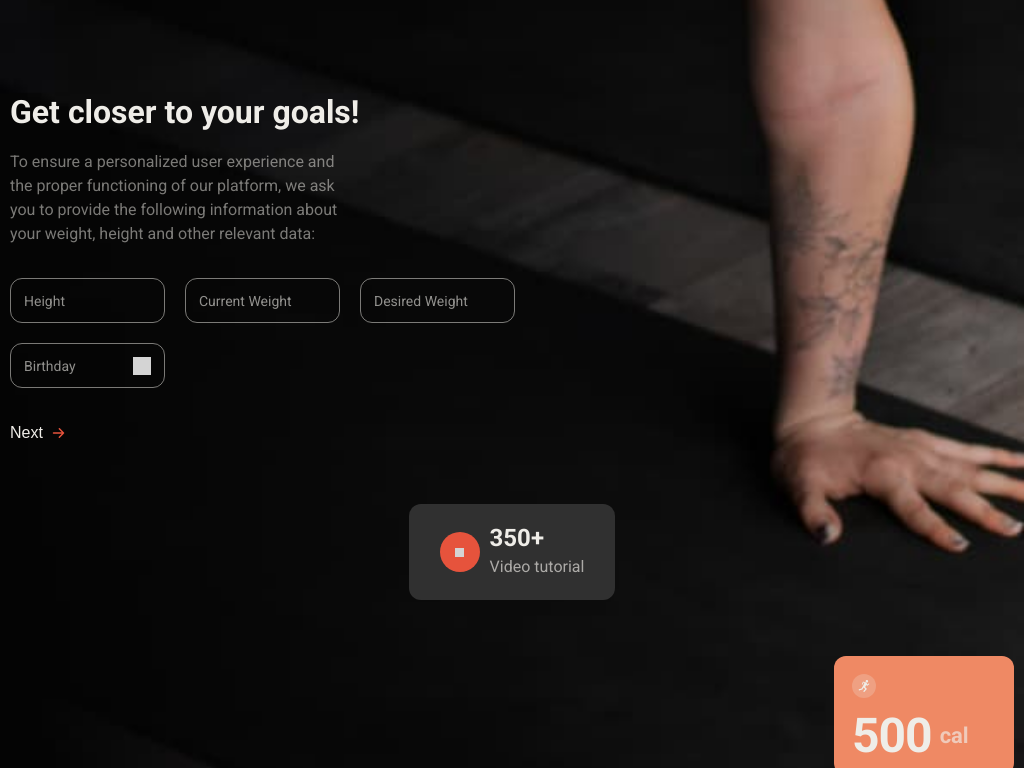
Test case: DataUserStepOne › displays validation success message for valid input fields
Type "180" into the field named "height".
click(88, 300); type("180")  # box top-left (10, 278), bottom-right (165, 323)
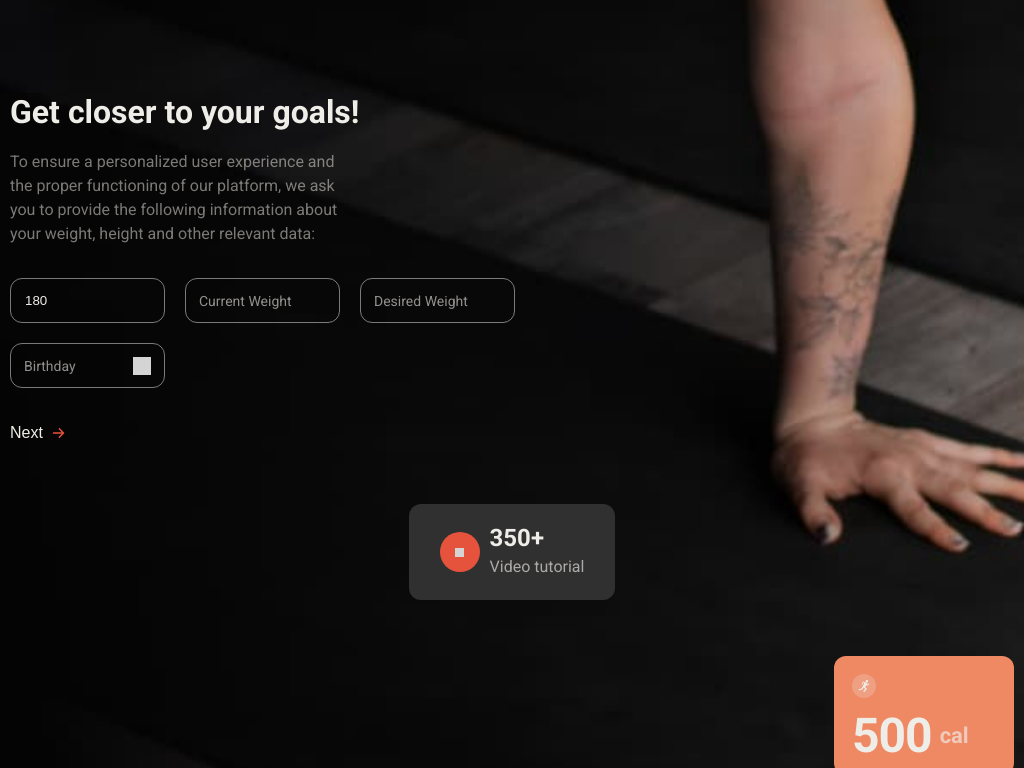
Leave the field named "height", box top-left (10, 278), bottom-right (165, 323)
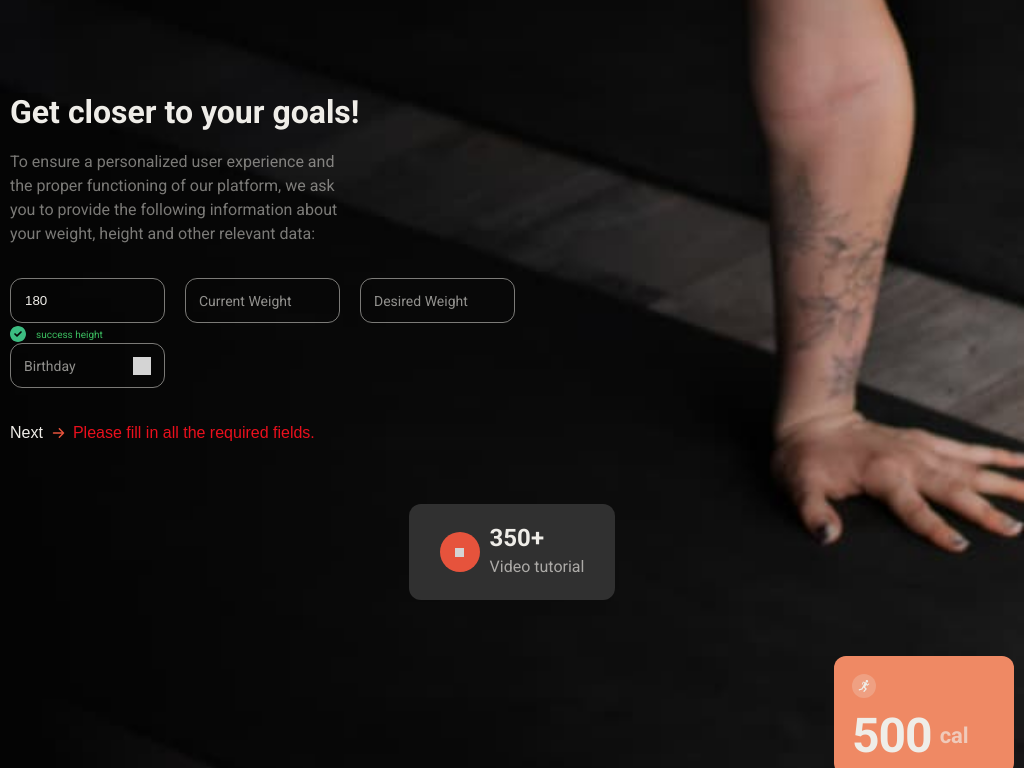
expect the text "success height" is shown: met, box top-left (36, 328), bottom-right (103, 340)
